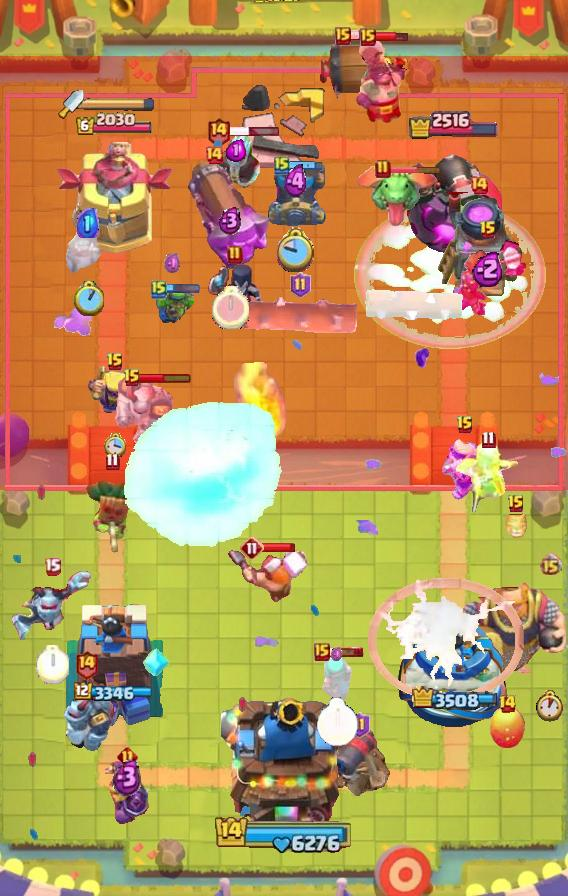bandit: (63, 224, 113, 276)
bar: (139, 372, 192, 384), (228, 126, 280, 137), (388, 165, 442, 174), (373, 30, 409, 43), (328, 646, 364, 658), (165, 283, 201, 294), (288, 160, 324, 171), (262, 542, 296, 553), (349, 30, 368, 41)
bar-level: (74, 649, 99, 680), (206, 116, 231, 147), (240, 536, 264, 560), (349, 712, 370, 738), (290, 272, 311, 298), (539, 553, 562, 576), (117, 746, 138, 767), (469, 175, 489, 195), (204, 145, 224, 165), (498, 694, 517, 714), (507, 494, 525, 514), (456, 415, 474, 435), (123, 368, 141, 388), (106, 352, 124, 372), (479, 220, 497, 240), (44, 557, 61, 576), (151, 279, 167, 299), (227, 245, 243, 265), (375, 159, 391, 179), (274, 155, 290, 175), (314, 643, 330, 661), (360, 28, 376, 46), (335, 27, 351, 45), (105, 452, 120, 471), (481, 430, 496, 449)
barbarian-barrel: (316, 39, 396, 99)
barbarian-evolution: (84, 361, 146, 417), (442, 437, 488, 501)
cannoneer-tower: (403, 138, 503, 256)
clock: (316, 697, 359, 747), (277, 227, 316, 272), (212, 286, 249, 329), (36, 645, 69, 684), (73, 281, 104, 316), (535, 690, 565, 722), (104, 433, 127, 459)
dagger-duchess-tower: (55, 142, 173, 256)
dagger-duchess-tower-bar: (84, 97, 156, 111)
dart-goblin: (82, 476, 142, 554)
elixir: (472, 250, 505, 287), (113, 758, 142, 796), (283, 164, 309, 199), (218, 206, 242, 235), (77, 208, 99, 238), (226, 139, 246, 162), (164, 252, 182, 275), (331, 647, 343, 662)
executioner: (353, 37, 409, 125)
ice-spirit-evolution-symbol: (142, 645, 170, 679)
ice-wizard: (206, 128, 266, 194)
king-tower: (221, 690, 347, 826)
king-tower-bar: (214, 814, 354, 854)
knight-evolution: (105, 759, 150, 827)
lava-pup: (505, 509, 527, 539)
lumberjack: (227, 548, 307, 610)
mega-minion: (9, 568, 95, 646), (114, 375, 176, 453), (56, 682, 116, 752)
mortar: (266, 162, 326, 226)
night-witch: (206, 262, 264, 332)
phoenix-egg: (487, 706, 527, 750)
queen-tower: (394, 614, 513, 731), (62, 599, 167, 731)
rascal-girl: (319, 656, 355, 702)
spear-goblin: (152, 285, 194, 325)
the-log: (239, 295, 361, 339), (362, 288, 464, 322)
tower-bar: (407, 109, 499, 140), (410, 686, 497, 711), (75, 112, 153, 137), (74, 682, 155, 703)
valkyrie-evolution: (449, 238, 527, 318)
